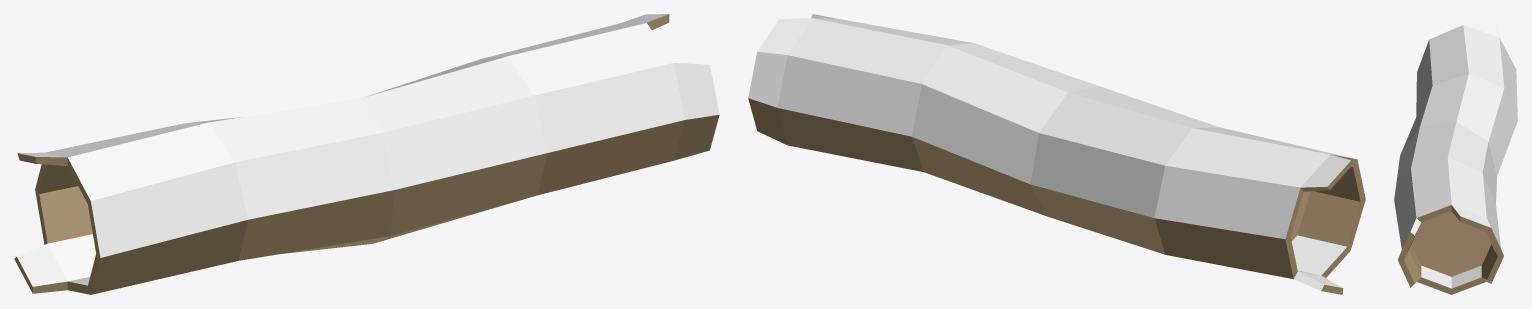
File: Acacia_Log_Snow_06.fbx
The picture shows the model from 3 angles, left to right: view 1: azimuth 30°, elevation 25°; view 2: azimuth 150°, elevation 25°; view 3: azimuth 270°, elevation 25°; orthographic projection. The views are drawn at different scales.
Parts seen in each view (by area): view 1: Acacia_Log_Snow_06; view 2: Acacia_Log_Snow_06; view 3: Acacia_Log_Snow_06.
Part boxes in pixels (x1,y1,x2,y2): Acacia_Log_Snow_06: (14,14,719,294); Acacia_Log_Snow_06: (748,14,1365,294); Acacia_Log_Snow_06: (1394,14,1517,294).
Bounding box in the file's own units: 186 × 42.33 × 48.81.
